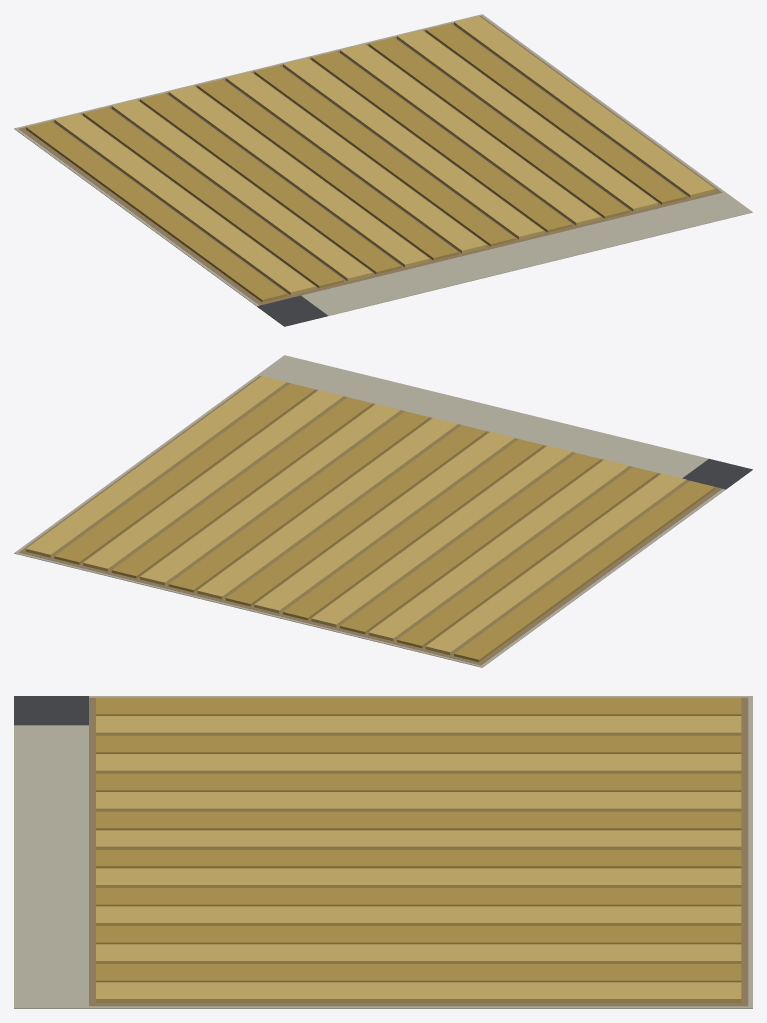
The model's file is site_field_w.glb.
3 renders of one model, top to bottom at view 1: azimuth 30°, elevation 25°; view 2: azimuth 150°, elevation 25°; view 3: azimuth 270°, elevation 25°, orthographic. The views are drawn at different scales.
Visible parts, largest first — view 1: site_field_w; view 2: site_field_w; view 3: site_field_w.
Boxes of the visible parts, x1,y1,x2,y2 form: site_field_w: (14,14,752,326); site_field_w: (14,355,752,667); site_field_w: (14,696,752,1008).
Bounding box in the file's own units: 64 × 0.46 × 64.
